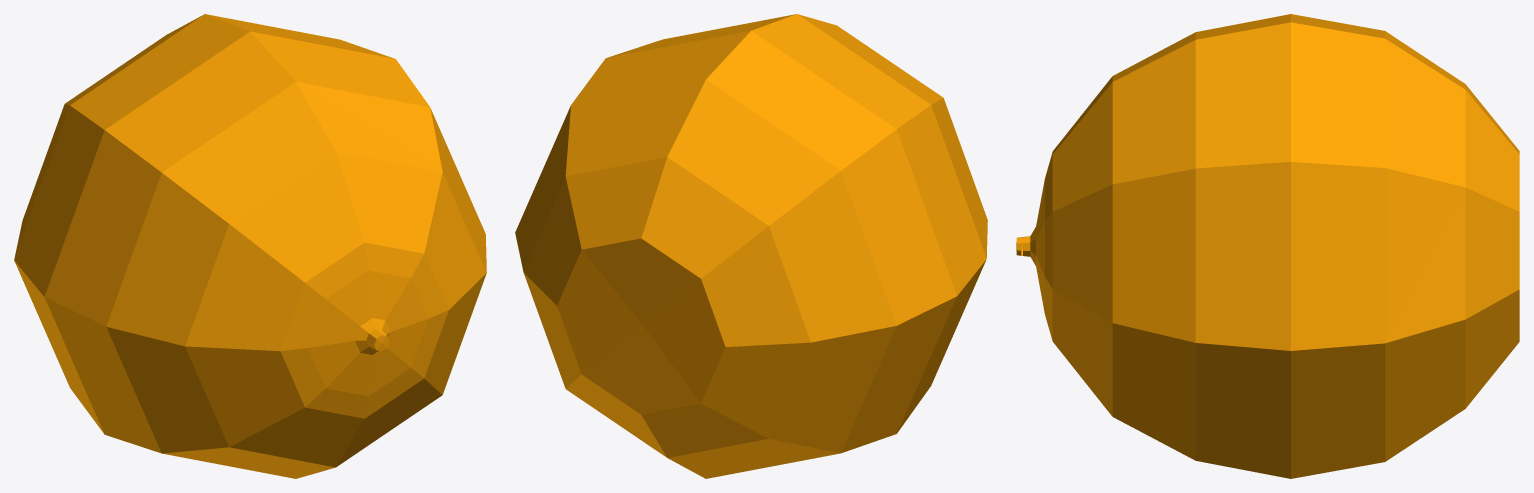
The model's file is orange.glb.
3 renders of one model, left to right at view 1: azimuth 30°, elevation 25°; view 2: azimuth 150°, elevation 25°; view 3: azimuth 270°, elevation 25°, orthographic. The views are drawn at different scales.
Parts seen in each view (by area): view 1: Orange; view 2: Orange; view 3: Orange.
Part boxes in pixels (box(x1,y1,x2,y2)): Orange: box(14, 14, 486, 478); Orange: box(515, 14, 987, 478); Orange: box(1016, 14, 1519, 478).
Bounding box in the file's own units: 0.0811 × 0.0811 × 0.0826.
